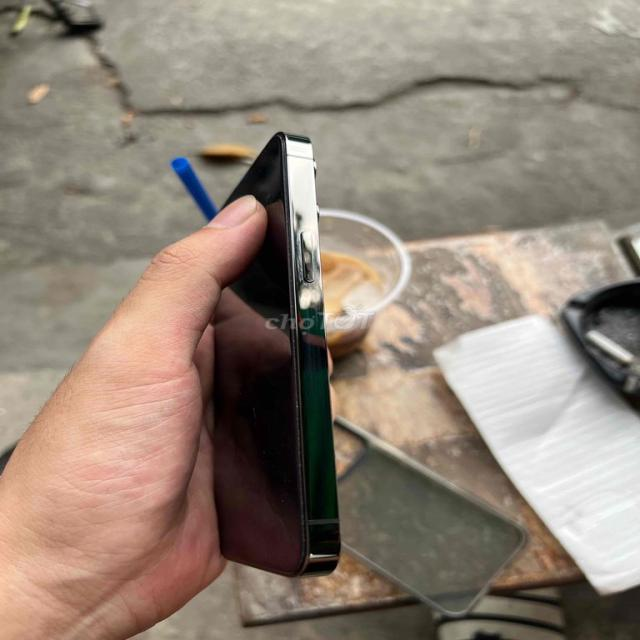gen_12_13: (200, 133, 383, 589)
